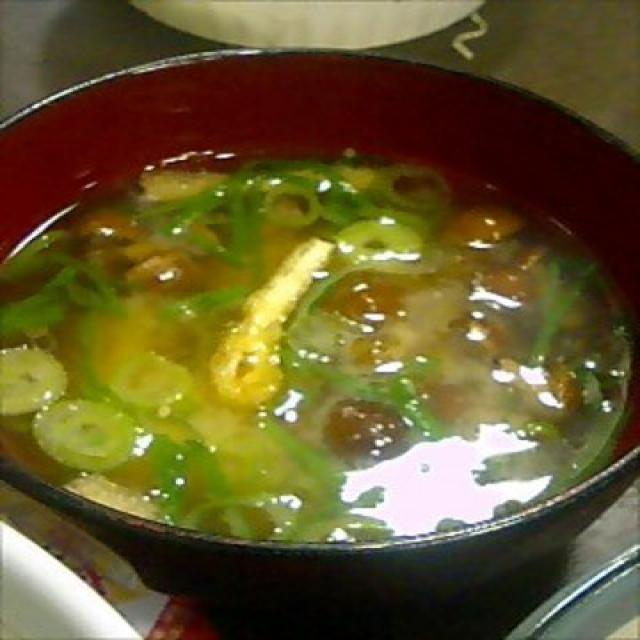汤锅炖物: (0, 44, 640, 600)
